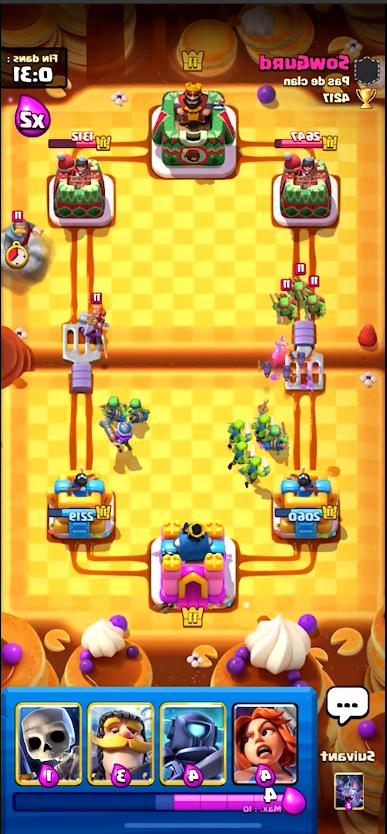chevalier: (2, 211, 40, 246)
gobelin: (226, 441, 251, 467), (245, 458, 270, 484), (251, 413, 271, 438), (226, 420, 245, 444)
gobelin_lances: (302, 278, 326, 313), (264, 420, 287, 451), (292, 264, 310, 298), (122, 398, 148, 420), (99, 398, 122, 422), (274, 289, 291, 320)
mousquetaire: (97, 419, 133, 452)
valkyrie: (79, 294, 108, 338)
